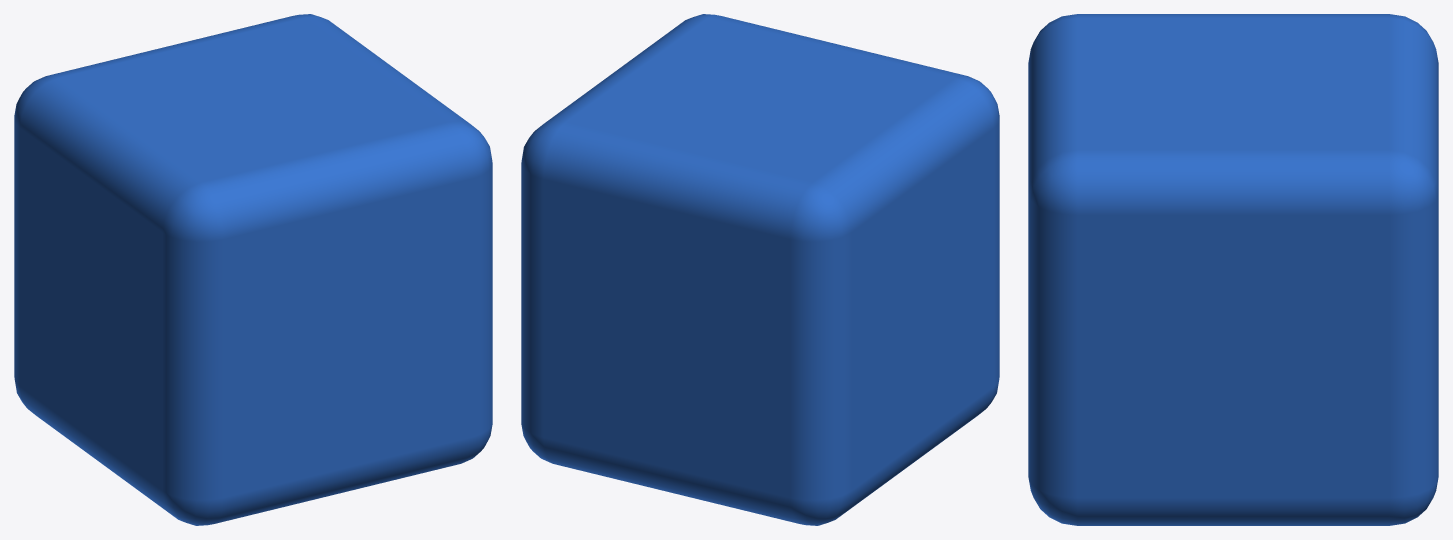
3 views of the same model, side by side, from view 1: azimuth 30°, elevation 25°; view 2: azimuth 150°, elevation 25°; view 3: azimuth 270°, elevation 25° (orthographic). The views are drawn at different scales.
Parts seen in each view (by area): view 1: Cube.001; view 2: Cube.001; view 3: Cube.001.
Boxes of the visible parts, bbox=[...] form: Cube.001: bbox=[14, 14, 492, 525]; Cube.001: bbox=[521, 14, 999, 525]; Cube.001: bbox=[1028, 14, 1438, 525].
Size of the model in its own units: 2 by 2 by 2.
